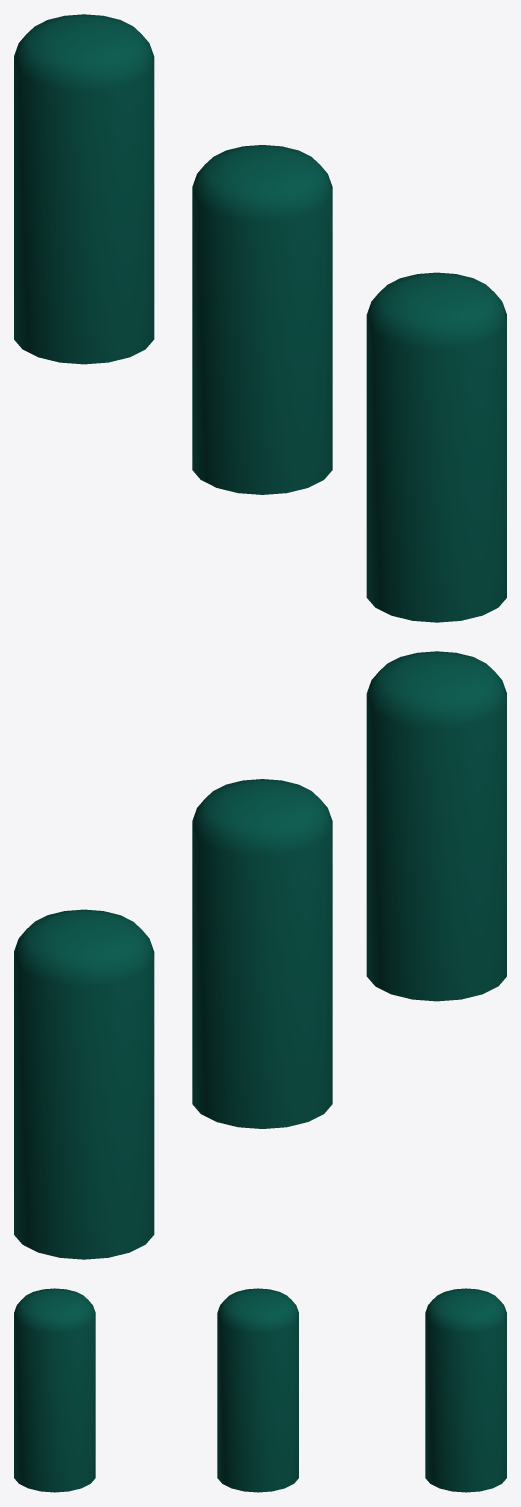
File: M_Bittes.FBX
3 views of the same model, one above another, from view 1: azimuth 30°, elevation 25°; view 2: azimuth 150°, elevation 25°; view 3: azimuth 270°, elevation 25° (orthographic). The views are drawn at different scales.
Visible parts, largest first — view 1: Cylinder002; view 2: Cylinder002; view 3: Cylinder002.
Part boxes in pixels (<box>): Cylinder002: <box>14,14,506,622</box>; Cylinder002: <box>14,651,506,1259</box>; Cylinder002: <box>14,1288,506,1492</box>.
Size of the model in its own units: 0.4161 by 2.47 by 0.9864.
